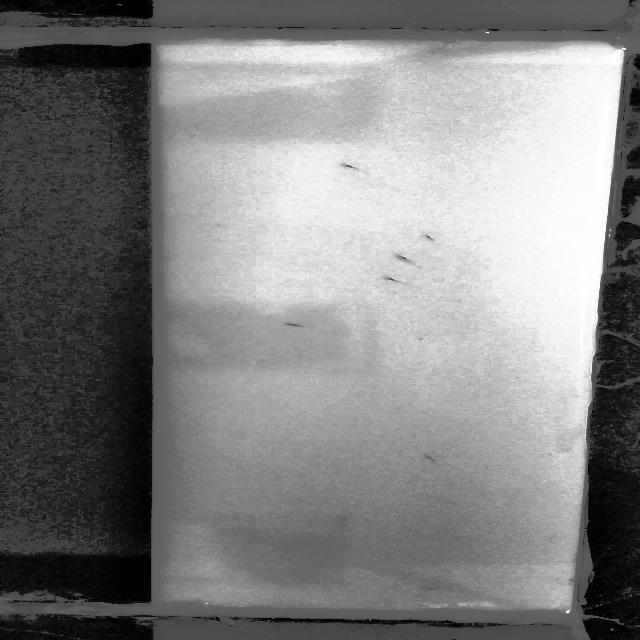shrimp: (395, 255, 422, 268), (382, 275, 411, 286), (420, 584, 450, 592), (334, 514, 358, 524), (423, 449, 438, 464), (278, 322, 310, 329), (339, 163, 365, 171), (423, 234, 441, 244)
